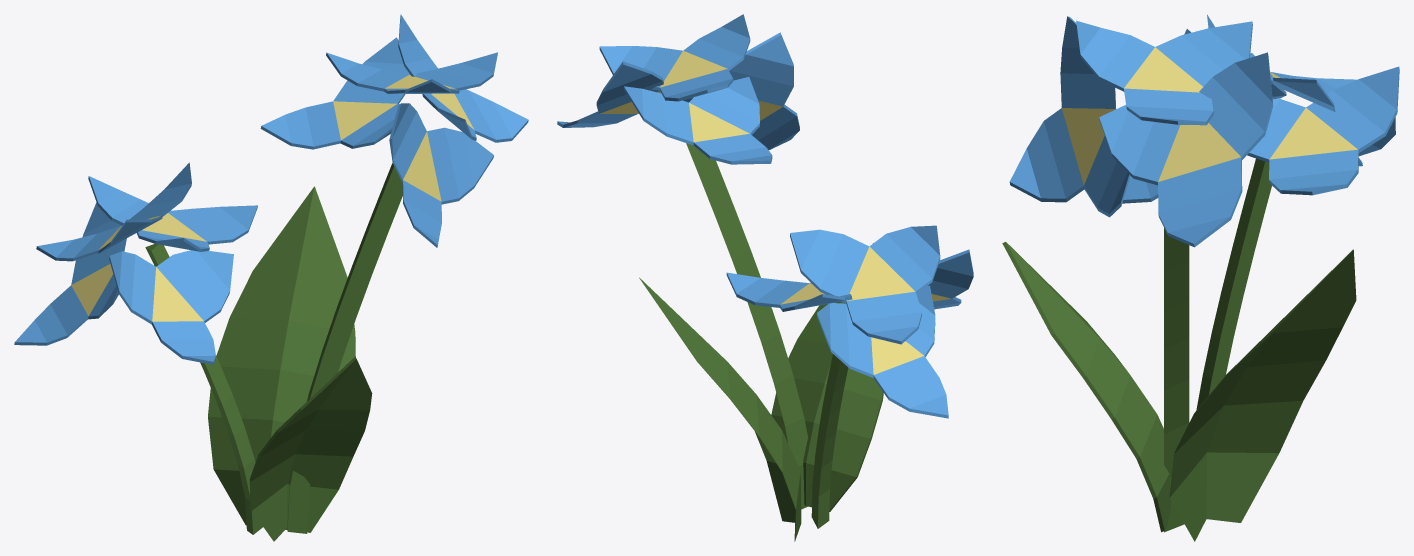
The model's file is flower3.fbx.
The picture shows the model from 3 angles, left to right: view 1: azimuth 30°, elevation 25°; view 2: azimuth 150°, elevation 25°; view 3: azimuth 270°, elevation 25°; orthographic projection. The views are drawn at different scales.
Parts seen in each view (by area): view 1: Plane.011; view 2: Plane.011; view 3: Plane.011.
Boxes of the visible parts, x1,y1,x2,y2 form: Plane.011: [14, 14, 528, 541]; Plane.011: [557, 14, 973, 541]; Plane.011: [1002, 14, 1399, 541].
Bounding box in the file's own units: 253 × 246 × 154.
